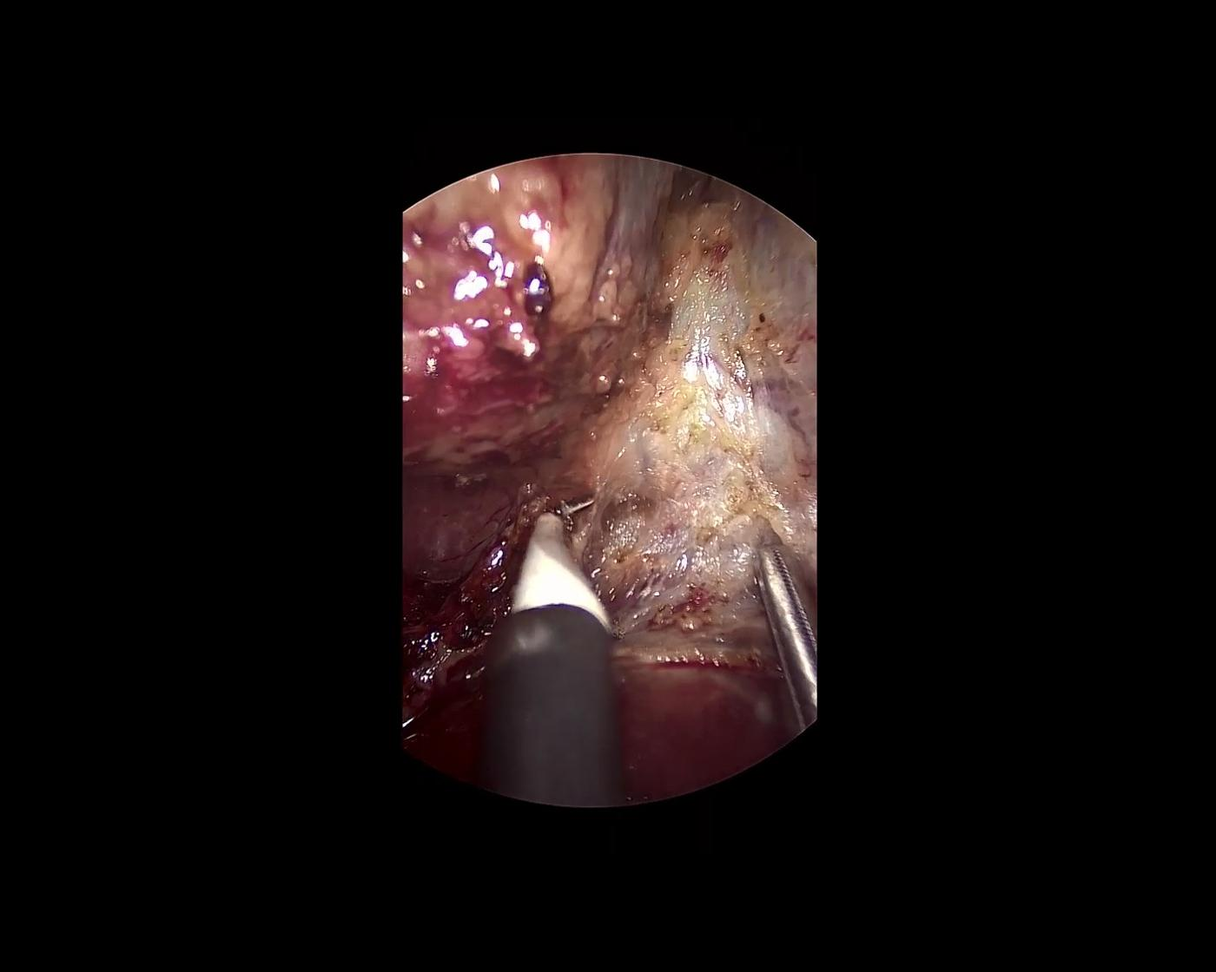Cautery: (464, 495, 620, 813)
Forceps: (754, 545, 815, 739)
Gallbladder: (349, 115, 689, 518)
Liver: (592, 620, 801, 802), (400, 477, 519, 581)
